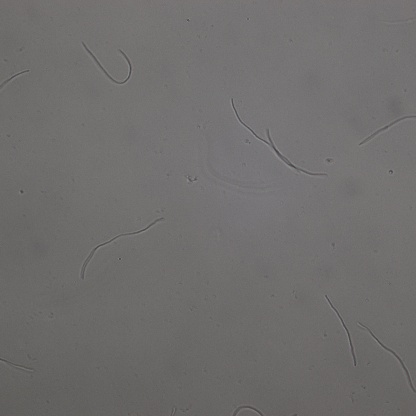Sensitive: (230, 98, 327, 177), (80, 216, 163, 279), (358, 323, 416, 394), (325, 294, 356, 364), (83, 43, 132, 85), (360, 113, 415, 146), (1, 70, 29, 88)
